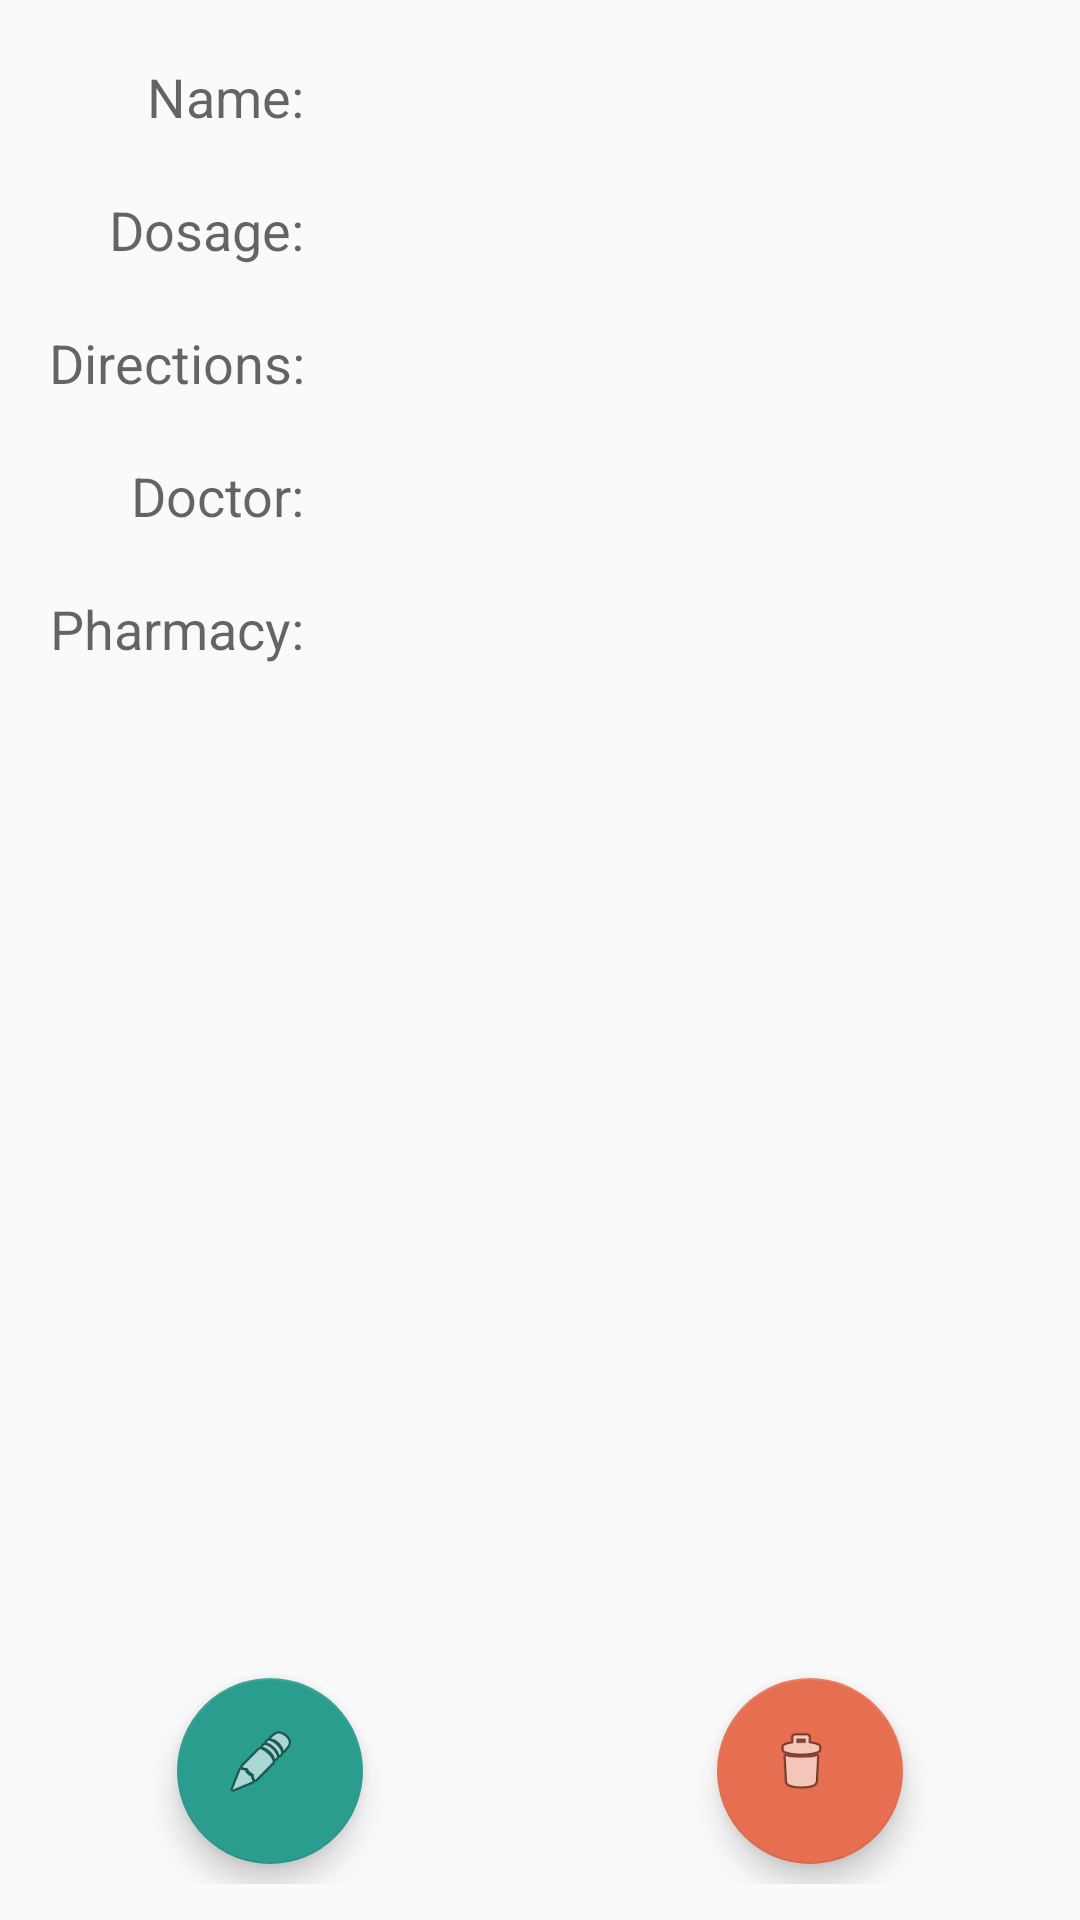

Named icons in this screenshot (1080px×1920px) and their centers, (x,y):
delete: (810,1771)
edit: (270,1771)
